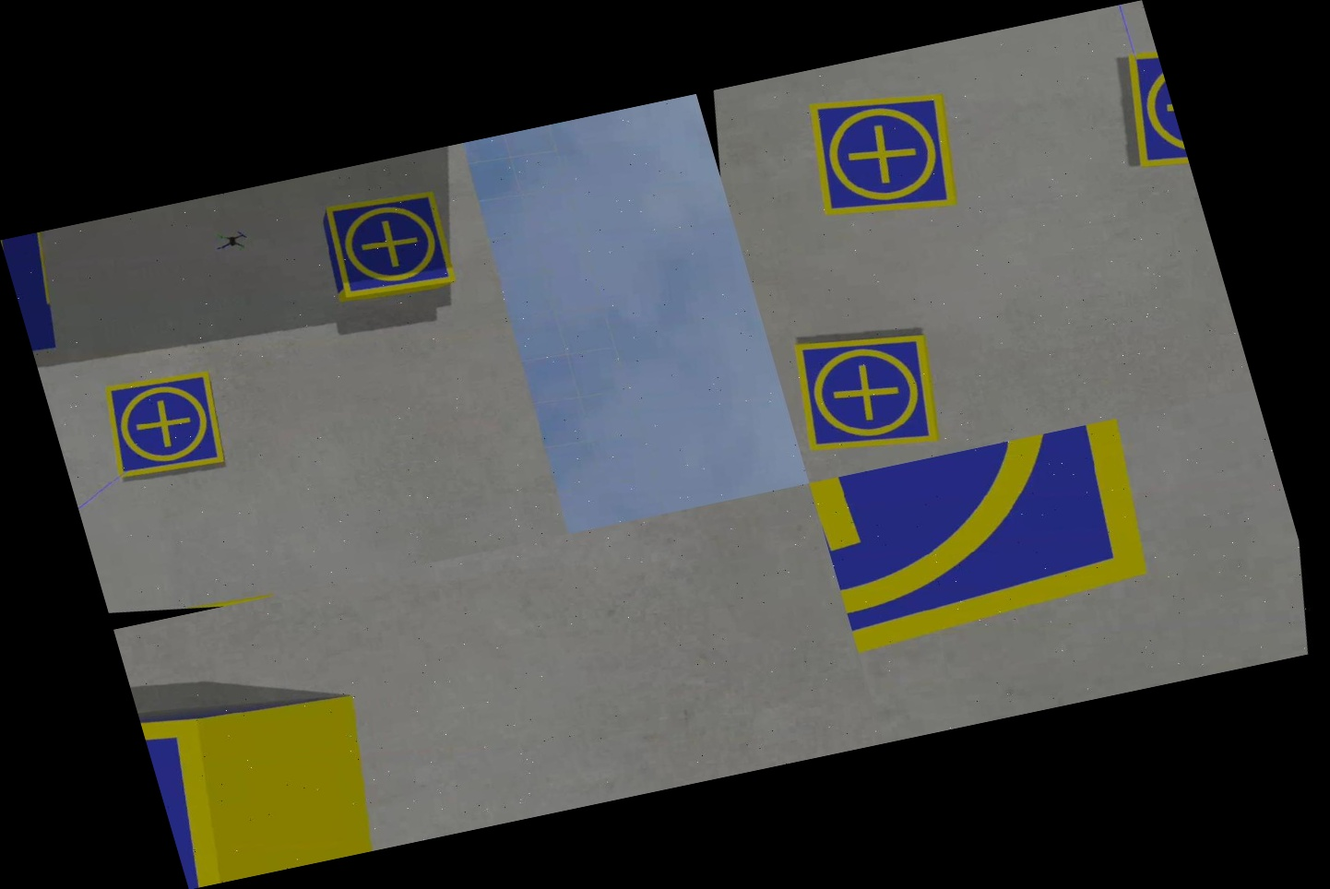small_base: (810, 404, 1262, 742), (788, 71, 982, 236), (771, 312, 958, 469), (302, 172, 476, 317), (137, 695, 262, 889), (82, 352, 247, 494), (1103, 45, 1193, 186)
